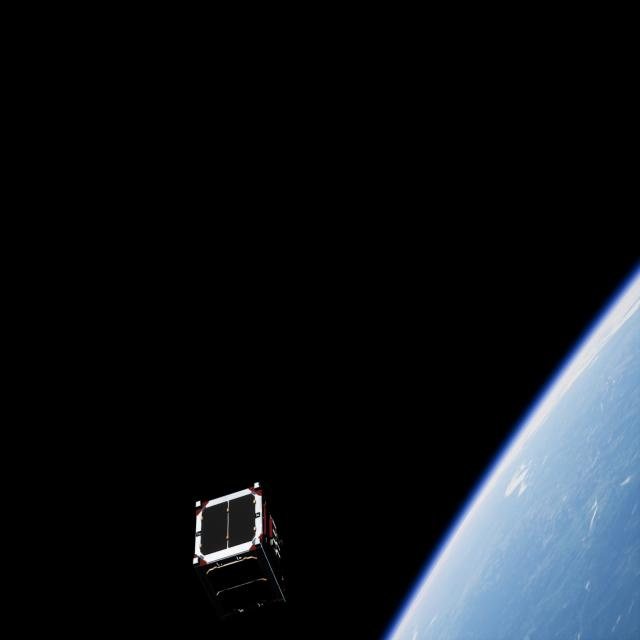medium_debris: (188, 481, 292, 622)
